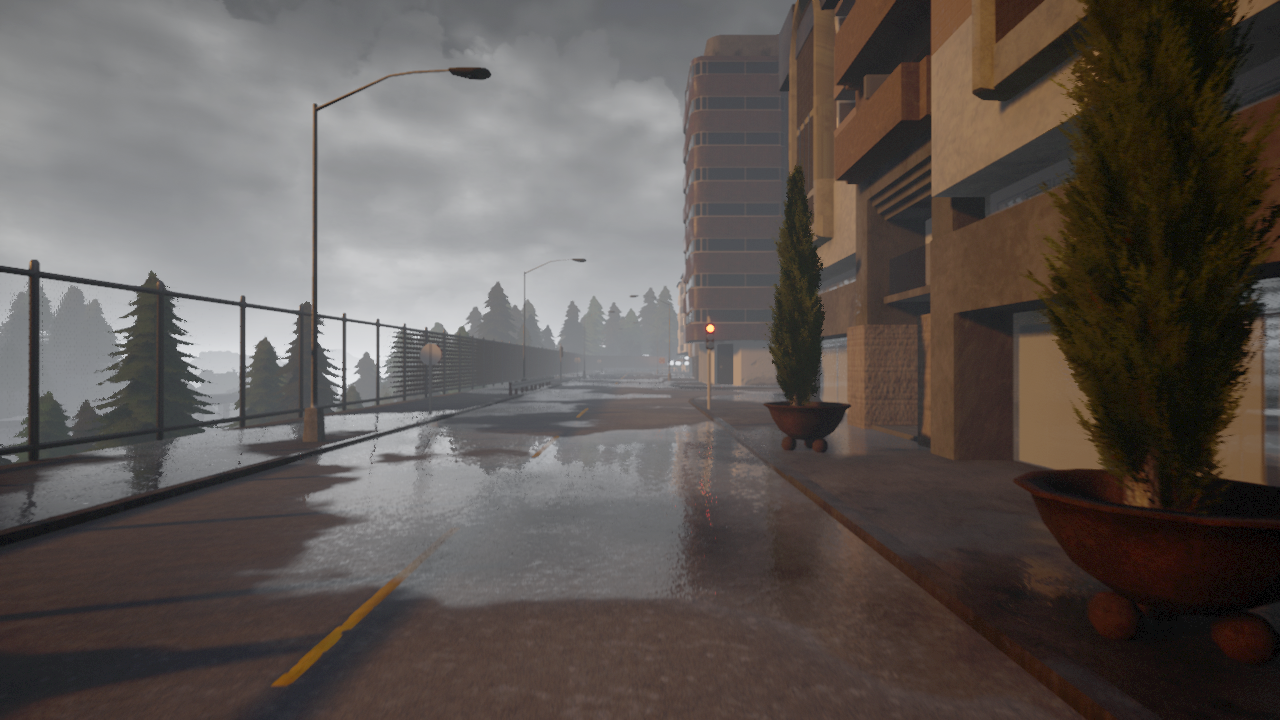red: (705, 322, 715, 350)
